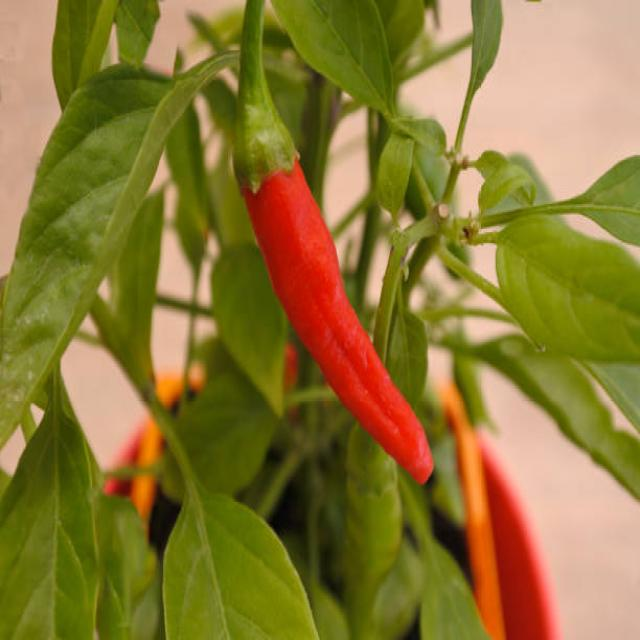Ripe: (245, 160, 432, 482)
